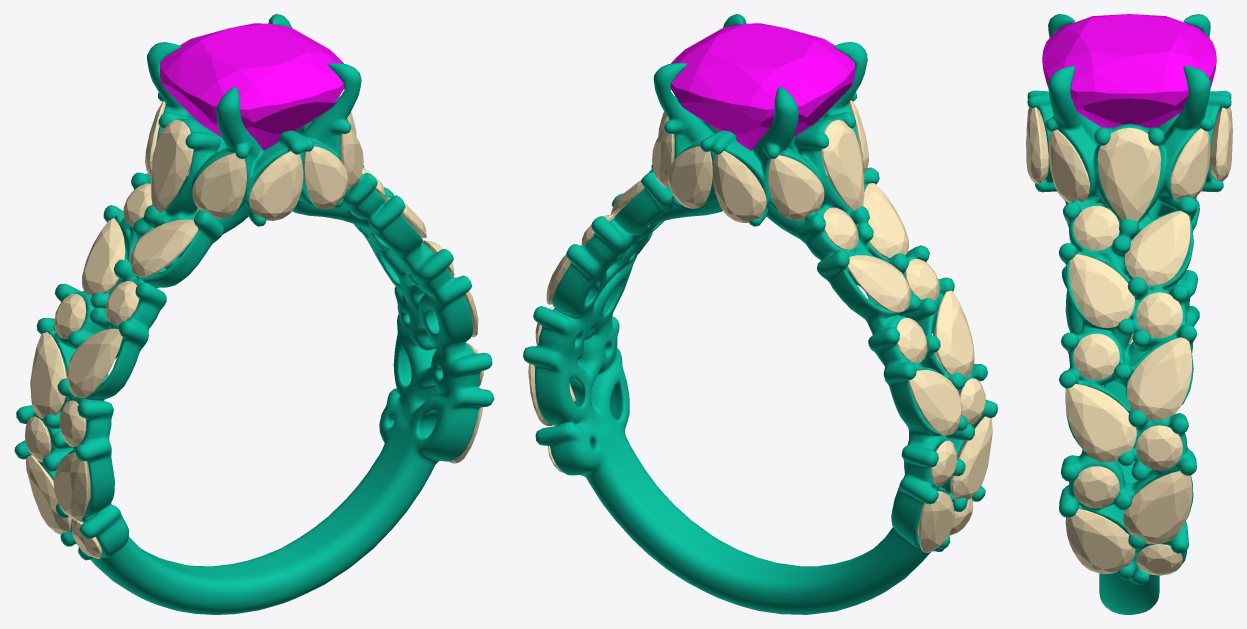
The model's file is BE1D1855_CU_200ct_RENDER.glb.
3 renders of one model, left to right at view 1: azimuth 30°, elevation 25°; view 2: azimuth 150°, elevation 25°; view 3: azimuth 270°, elevation 25°, orthographic.
Visible parts, largest first — view 1: Metal 01, CS_Diamond_Cushion, Diamond_Pear_Gem_SH.016, Diamond_Pear_Gem_SH.018, Diamond_Pear_Gem_SH.017, Diamond_Pear_Gem_SH.019, Diamond_Pear_Gem_SH.012, Diamond_Pear_Gem_SH.014, Diamond_Pear_Gem_SH.013, Diamond_Pear_Gem_SH, Diamond_Pear_Gem_SH.020, Diamond_Pear_Gem_SH.021 (+6 smaller); view 2: Metal 01, CS_Diamond_Cushion, Diamond_Pear_Gem_SH.016, Diamond_Pear_Gem_SH.015, Diamond_Pear_Gem_SH.001, Diamond_Pear_Gem_SH.019, Diamond_Pear_Gem_SH.014, Diamond_Pear_Gem_SH.013, Diamond_Pear_Gem_SH.008, Diamond_Pear_Gem_SH.012, Diamond_Pear_Gem_SH.020, Diamond_Pear_Gem_SH.021 (+6 smaller); view 3: Metal 01, CS_Diamond_Cushion, Diamond_Pear_Gem_SH.006, Diamond_Pear_Gem_SH.004, Diamond_Pear_Gem_SH.009, Diamond_Pear_Gem_SH.010, Diamond_Pear_Gem_SH.002, Diamond_Pear_Gem_SH.003, Diamond_Pear_Gem_SH.011, Diamond_Pear_Gem_SH.005, Diamond_Pear_Gem_SH.007, Diamond_Round_Gem_SH.004 (+7 smaller).
Boxes of the visible parts, box(x1,y1,x2,y2) form: Metal 01: box(14, 14, 494, 614); CS_Diamond_Cushion: box(160, 23, 344, 150); Diamond_Pear_Gem_SH.016: box(151, 120, 193, 212); Diamond_Pear_Gem_SH.018: box(249, 151, 303, 220); Diamond_Pear_Gem_SH.017: box(192, 153, 246, 218); Diamond_Pear_Gem_SH.019: box(66, 328, 122, 397); Diamond_Pear_Gem_SH.012: box(129, 219, 198, 276); Diamond_Pear_Gem_SH.014: box(30, 332, 66, 418); Diamond_Pear_Gem_SH.013: box(82, 218, 125, 296); Diamond_Pear_Gem_SH: box(304, 146, 348, 209); Diamond_Pear_Gem_SH.020: box(53, 452, 90, 520); Diamond_Pear_Gem_SH.021: box(26, 455, 71, 534); Metal 01: box(523, 14, 997, 614); CS_Diamond_Cushion: box(670, 23, 854, 150); Diamond_Pear_Gem_SH.016: box(821, 120, 864, 211); Diamond_Pear_Gem_SH.015: box(768, 155, 824, 220); Diamond_Pear_Gem_SH.001: box(712, 151, 766, 222); Diamond_Pear_Gem_SH.019: box(934, 290, 974, 377); Diamond_Pear_Gem_SH.014: box(908, 370, 962, 435); Diamond_Pear_Gem_SH.013: box(847, 255, 910, 312); Diamond_Pear_Gem_SH.008: box(667, 146, 712, 208); Diamond_Pear_Gem_SH.012: box(863, 183, 908, 258); Diamond_Pear_Gem_SH.020: box(950, 416, 992, 500); Diamond_Pear_Gem_SH.021: box(917, 491, 954, 552); Metal 01: box(1027, 14, 1231, 614); CS_Diamond_Cushion: box(1042, 14, 1216, 127); Diamond_Pear_Gem_SH.006: box(1097, 127, 1160, 221); Diamond_Pear_Gem_SH.004: box(1065, 384, 1136, 462); Diamond_Pear_Gem_SH.009: box(1127, 337, 1191, 420); Diamond_Pear_Gem_SH.010: box(1123, 471, 1192, 544); Diamond_Pear_Gem_SH.002: box(1124, 211, 1190, 285); Diamond_Pear_Gem_SH.003: box(1069, 254, 1134, 327); Diamond_Pear_Gem_SH.011: box(1066, 509, 1135, 573); Diamond_Pear_Gem_SH.005: box(1048, 129, 1089, 202); Diamond_Pear_Gem_SH.007: box(1170, 128, 1210, 199); Diamond_Round_Gem_SH.004: box(1073, 333, 1119, 379).
Size of the model in its own units: 20.56 by 26.48 by 8.9.
